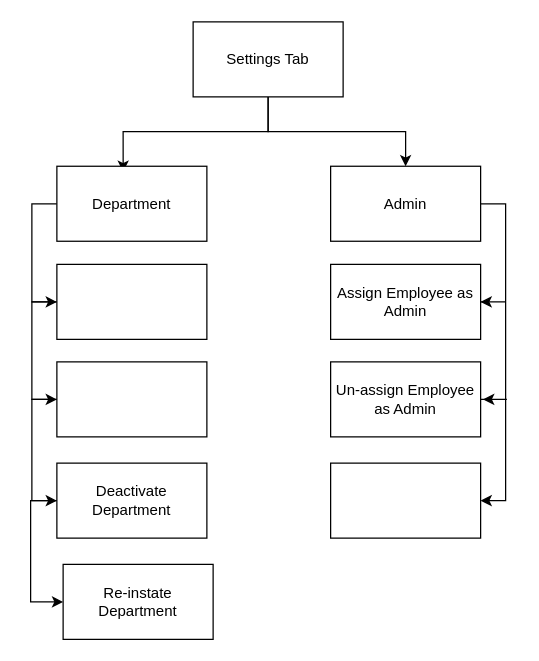
Some shapes in this 539 by 661 pixel diagram are drawn without their labels. The shapes that lost their labels are listed below. From the top down, each one's centre as x and y in pixels, then its label:
At (131,301): "Create Department".
At (131,399): "Edit Department".
At (405,500): "Password Settings".
